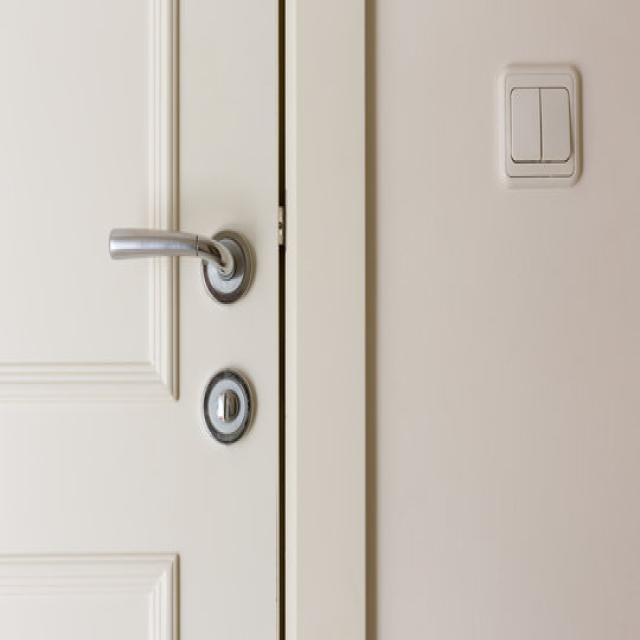door-handle: (109, 229, 254, 304)
